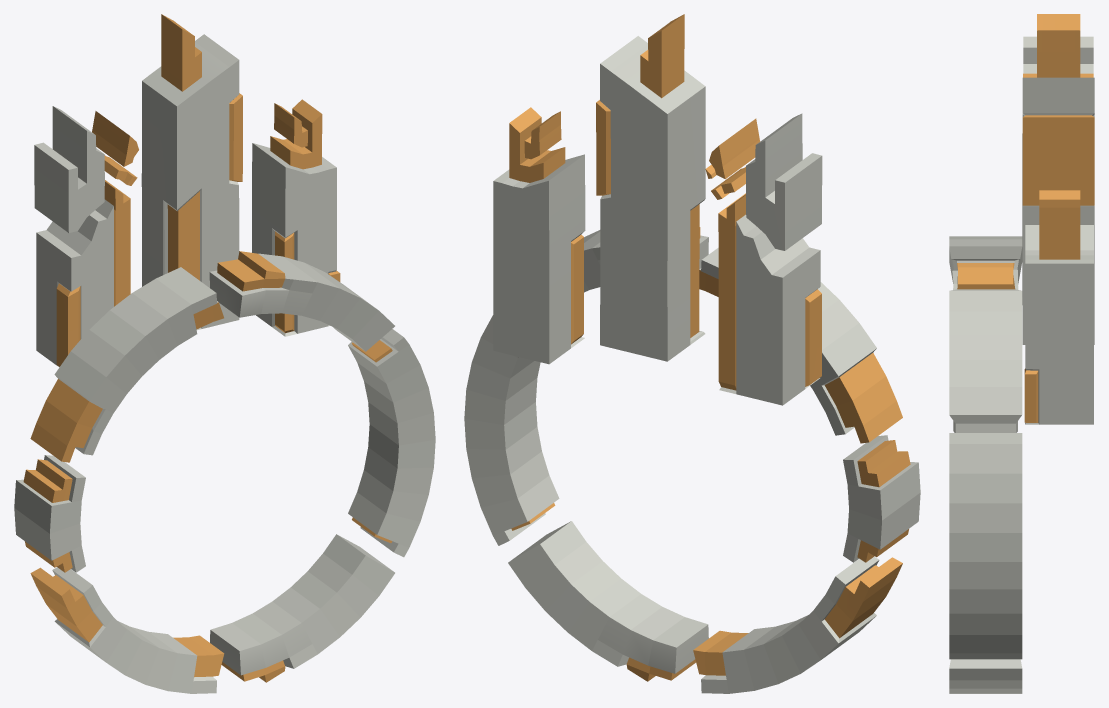
The model's file is Enemy_Portal.fbx.
The picture shows the model from 3 angles, left to right: view 1: azimuth 30°, elevation 25°; view 2: azimuth 150°, elevation 25°; view 3: azimuth 270°, elevation 25°; orthographic projection. The views are drawn at different scales.
Parts seen in each view (by area): view 1: Portal_L, Torre_02_L, Torre_01_L, Torre_03_L, Torre_01_L.002; view 2: Portal_L, Torre_02_L, Torre_01_L, Torre_03_L, Torre_01_L.002; view 3: Portal_L, Torre_03_L, Torre_02_L, Torre_01_L.
Boxes of the visible parts, left/top/right/bottom form: Portal_L: left=14, top=251, right=435, bottom=693; Torre_02_L: left=141, top=14, right=242, bottom=330; Torre_01_L: left=34, top=106, right=130, bottom=367; Torre_03_L: left=252, top=99, right=340, bottom=336; Torre_01_L.002: left=92, top=111, right=138, bottom=166; Portal_L: left=464, top=227, right=920, bottom=693; Torre_02_L: left=596, top=14, right=705, bottom=361; Torre_01_L: left=718, top=113, right=822, bottom=405; Torre_03_L: left=493, top=107, right=585, bottom=364; Torre_01_L.002: left=709, top=118, right=760, bottom=179; Portal_L: left=949, top=236, right=1022, bottom=693; Torre_03_L: left=1024, top=190, right=1093, bottom=424; Torre_02_L: left=1022, top=14, right=1094, bottom=344; Torre_01_L: left=1022, top=36, right=1093, bottom=304.
Size of the model in its own units: 1266 by 1994 by 402.
